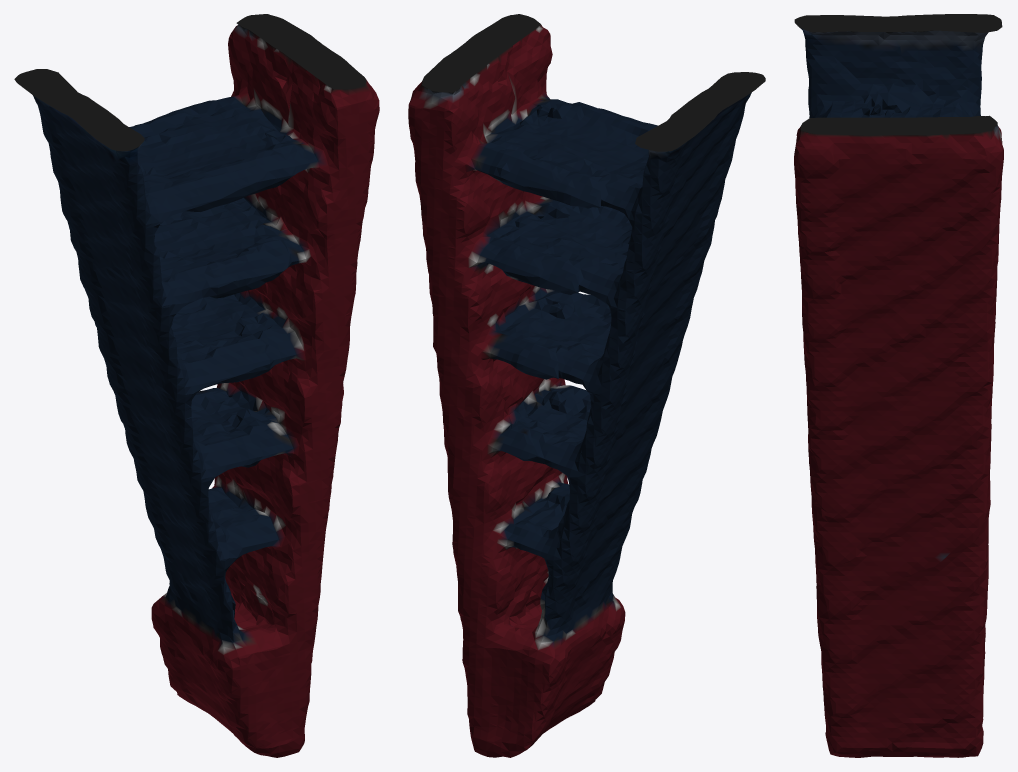
The model's file is soft_gripper_aligned.obj.
The picture shows the model from 3 angles, left to right: view 1: azimuth 30°, elevation 25°; view 2: azimuth 150°, elevation 25°; view 3: azimuth 270°, elevation 25°; orthographic projection. The views are drawn at different scales.
Bounding box in the file's own units: 0.0306 × 0.0722 × 0.021.
